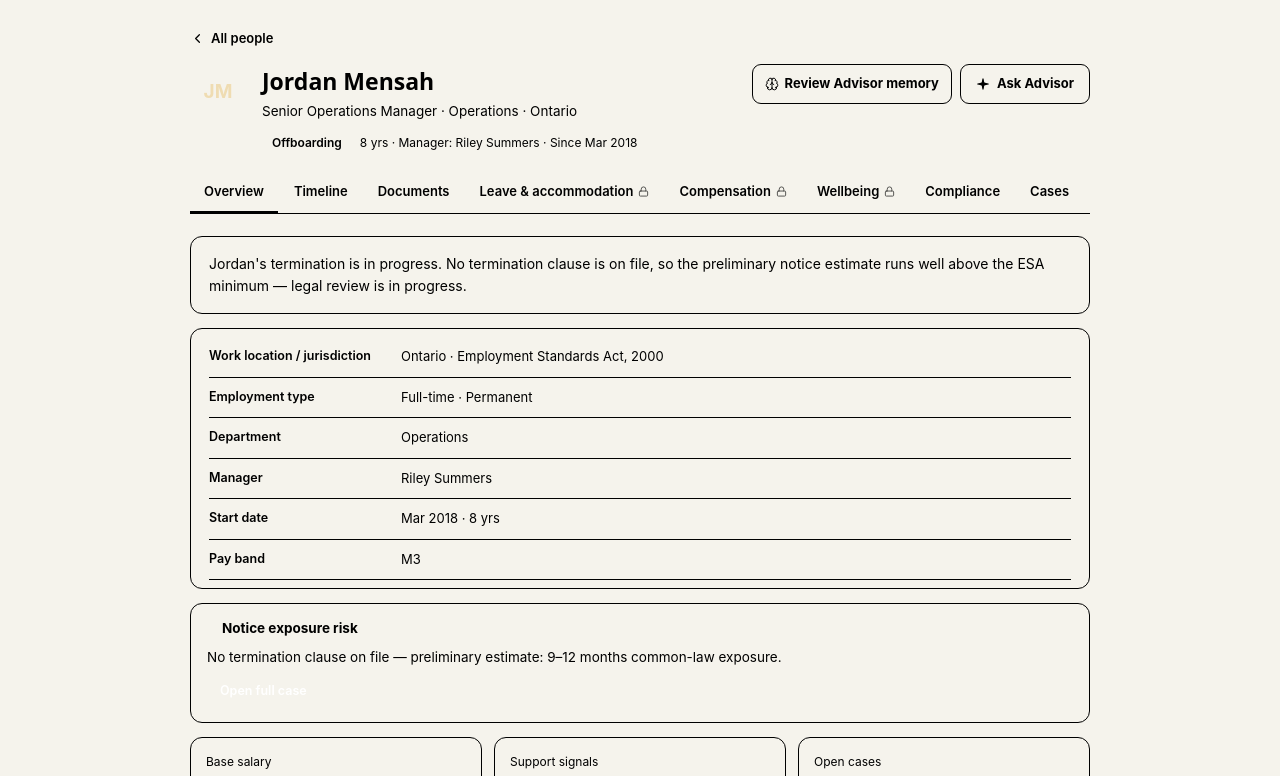
it: EmployeeProfileView › switches to the leave tab: restricted banner and leave records
Click the tab "Leave & accommodation" at [564, 193], box [466,173,664,212]
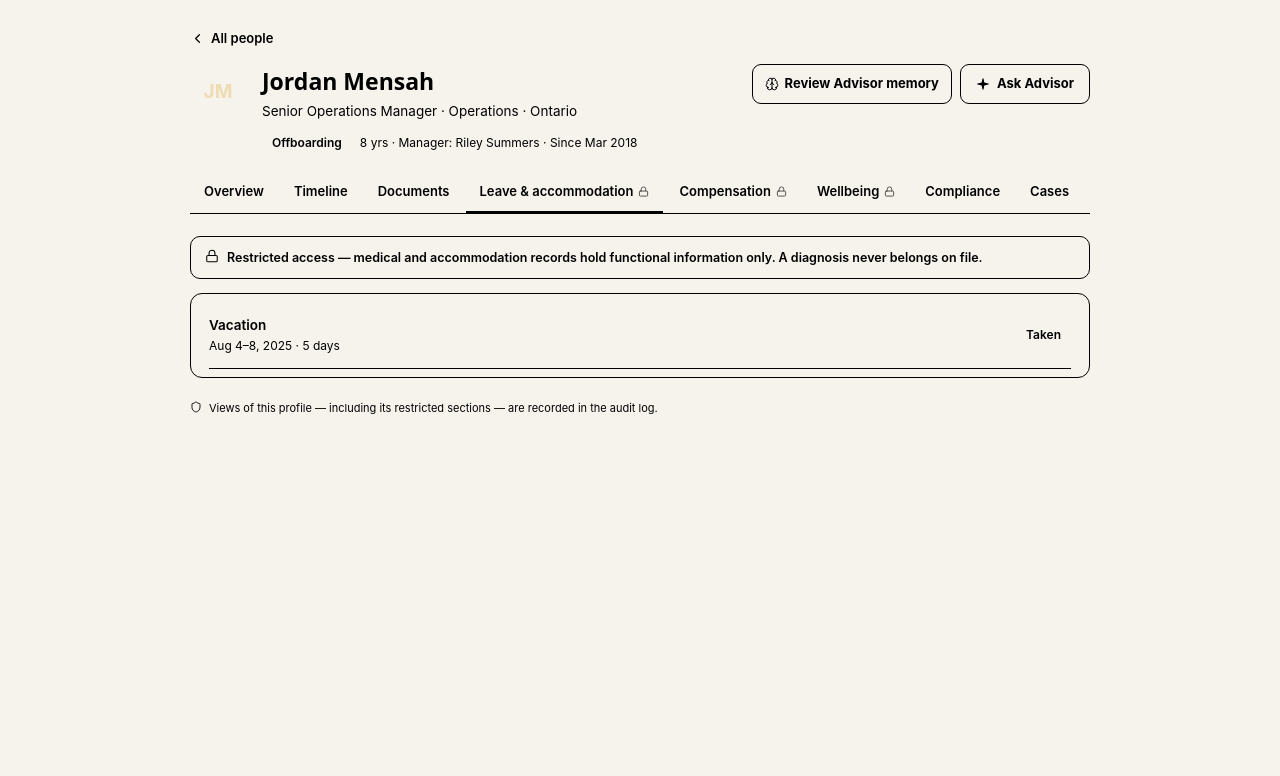
Expected: the text "medical and accommodation records hold functional information only" is shown, [227,250,983,264]
Expected: the text "Vacation" is shown, [209,317,266,333]
Expected: the text "Aug 4–8, 2025 · 5 days" is shown, [209,338,340,353]
